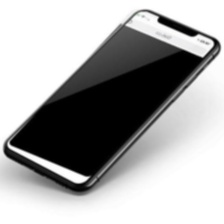phone: (0, 6, 220, 195)
